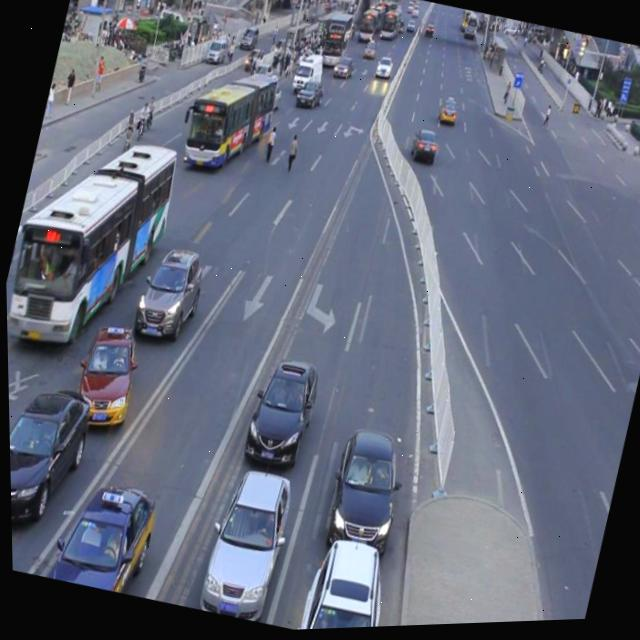car: (189, 457, 297, 627), (37, 465, 161, 600), (6, 368, 96, 535), (317, 418, 411, 558), (291, 527, 403, 632), (235, 347, 324, 474), (66, 314, 148, 434), (127, 239, 209, 348)
van: (2, 120, 181, 363), (178, 61, 281, 184)
